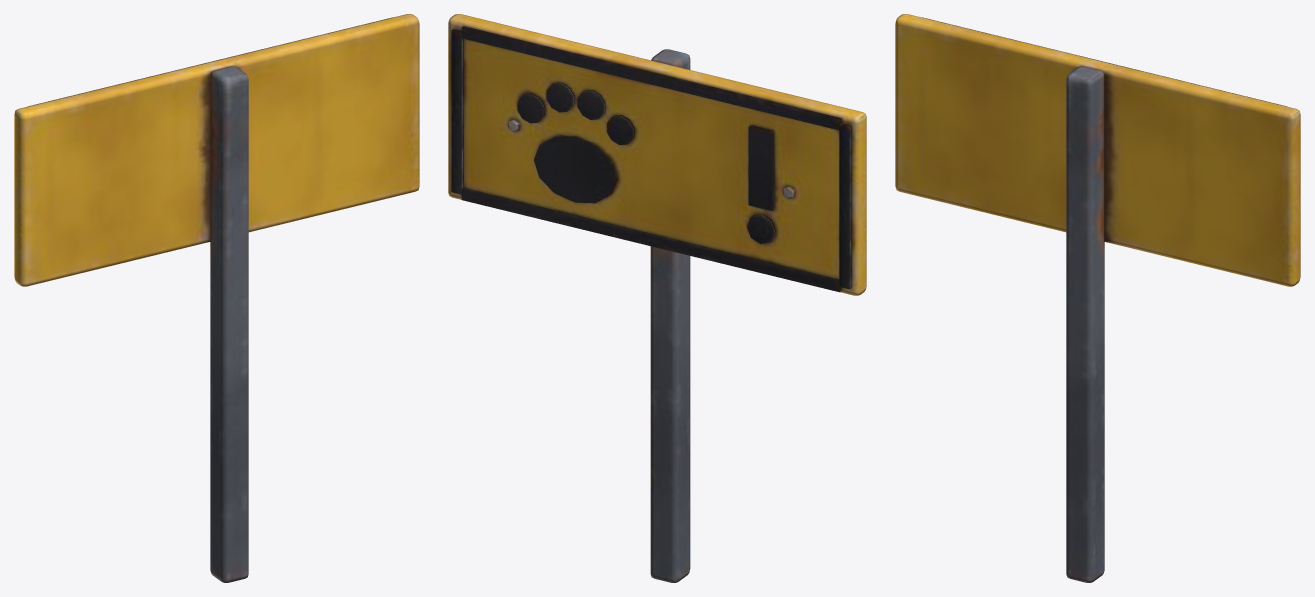
Rendered from warning_sign.glb.
3 views of the same model, side by side, from view 1: azimuth 30°, elevation 25°; view 2: azimuth 150°, elevation 25°; view 3: azimuth 330°, elevation 25° (orthographic). The views are drawn at different scales.
Parts seen in each view (by area): view 1: body; view 2: body; view 3: body.
Boxes of the visible parts, x1=… form: body: x1=14, y1=14, x2=419, y2=582; body: x1=448, y1=14, x2=866, y2=582; body: x1=895, y1=14, x2=1300, y2=582.
Bounding box in the file's own units: 1.2 × 1.45 × 0.1422.
1 material, 1 textured.
